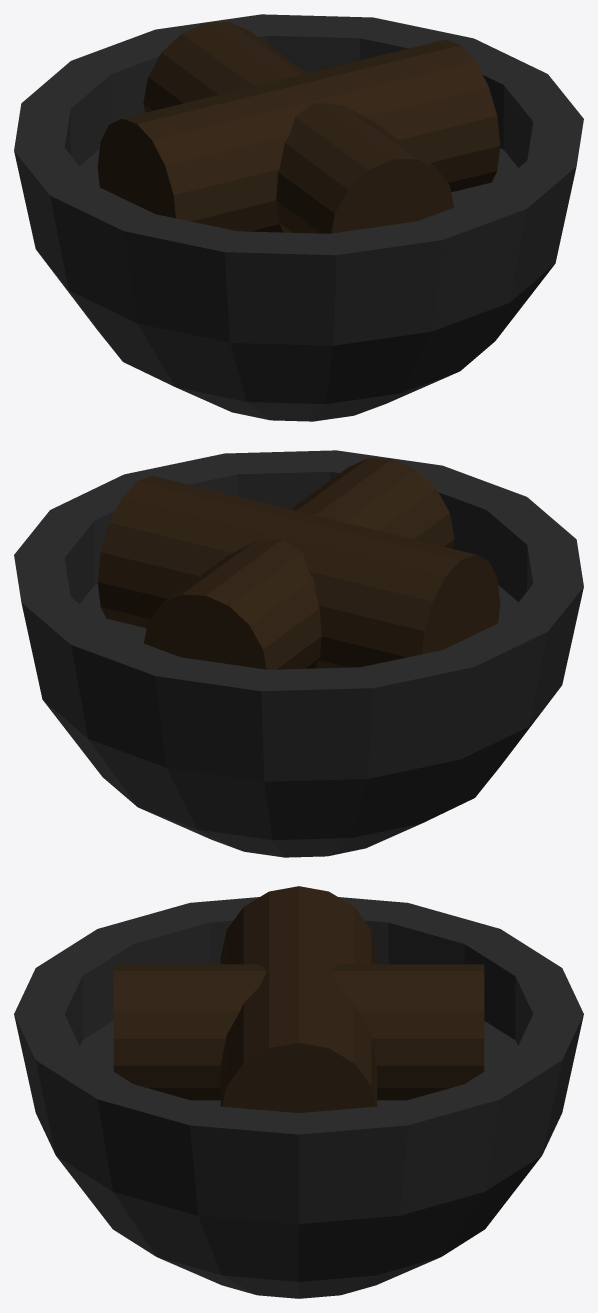
Rendered from ball_inside_v3.fbx.
The picture shows the model from 3 angles, top to bottom: view 1: azimuth 30°, elevation 25°; view 2: azimuth 150°, elevation 25°; view 3: azimuth 270°, elevation 25°; orthographic projection.
Parts seen in each view (by area): view 1: bowl, wood 2, wood 1; view 2: bowl, wood 2, wood 1; view 3: bowl, wood 1, wood 2.
Boxes of the visible parts, left/top/right/bottom form: bowl: left=14, top=14, right=583, bottom=421; wood 2: left=97, top=39, right=500, bottom=232; wood 1: left=143, top=22, right=454, bottom=233; bowl: left=14, top=450, right=583, bottom=857; wood 2: left=97, top=475, right=500, bottom=668; wood 1: left=143, top=458, right=454, bottom=669; bowl: left=14, top=897, right=583, bottom=1298; wood 1: left=113, top=964, right=484, bottom=1100; wood 2: left=220, top=886, right=377, bottom=1112.
Bounding box in the file's own units: 200 × 119 × 200.
